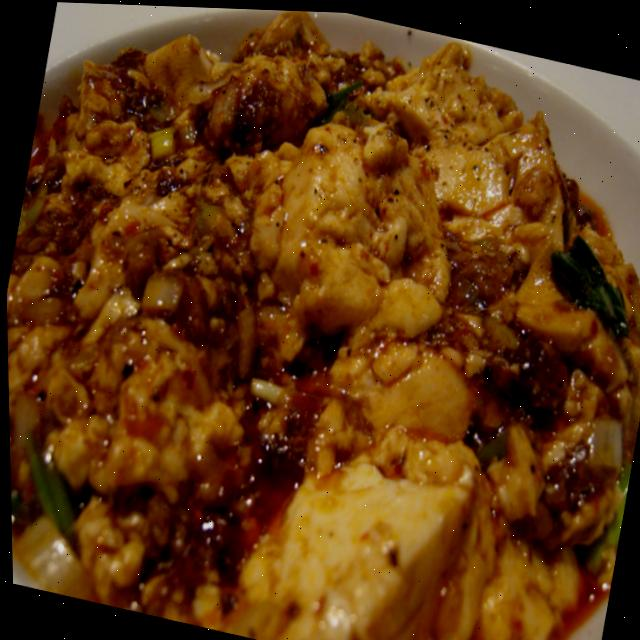豆腐料理: (205, 6, 640, 640)
